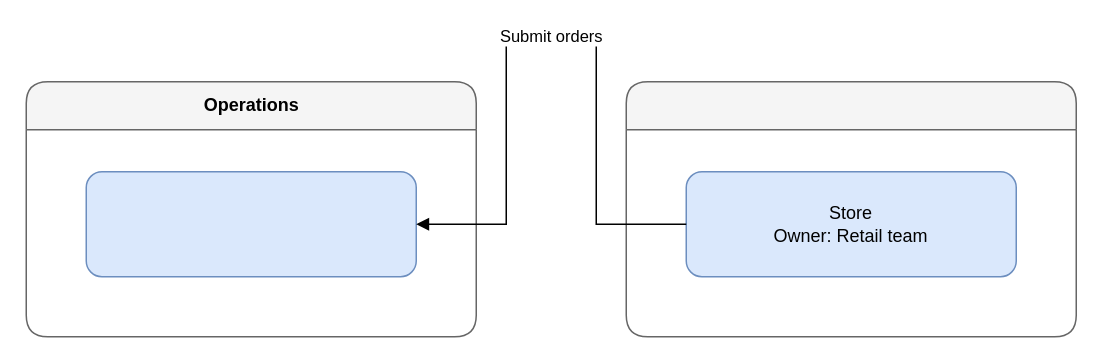
Image size: 1103x363. Some labels were removed from this diagram. The box of each missing label's shape, as (x1, y1, x2, y2) in pixels:
ERP Owner: Operations team: (85, 170, 416, 277)
Sales: (625, 80, 1076, 337)
